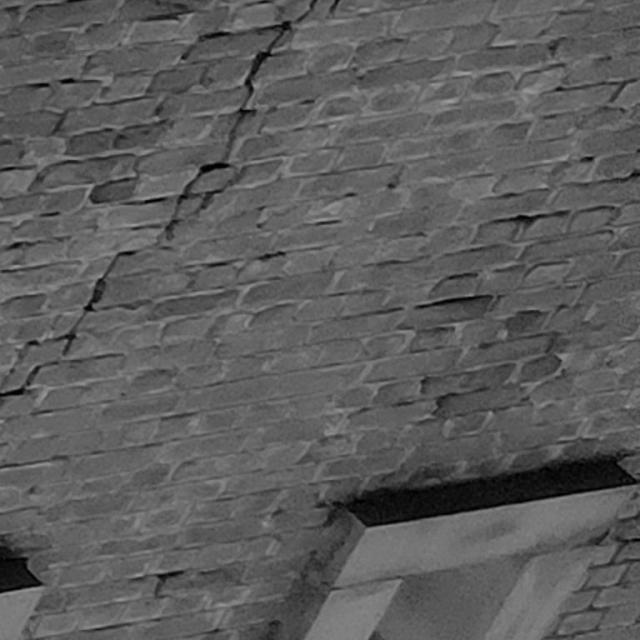crack: (1, 1, 316, 397)
